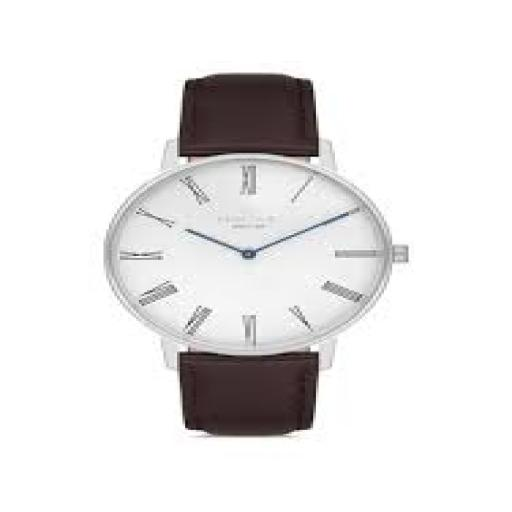KolSaati: (62, 37, 418, 436)
